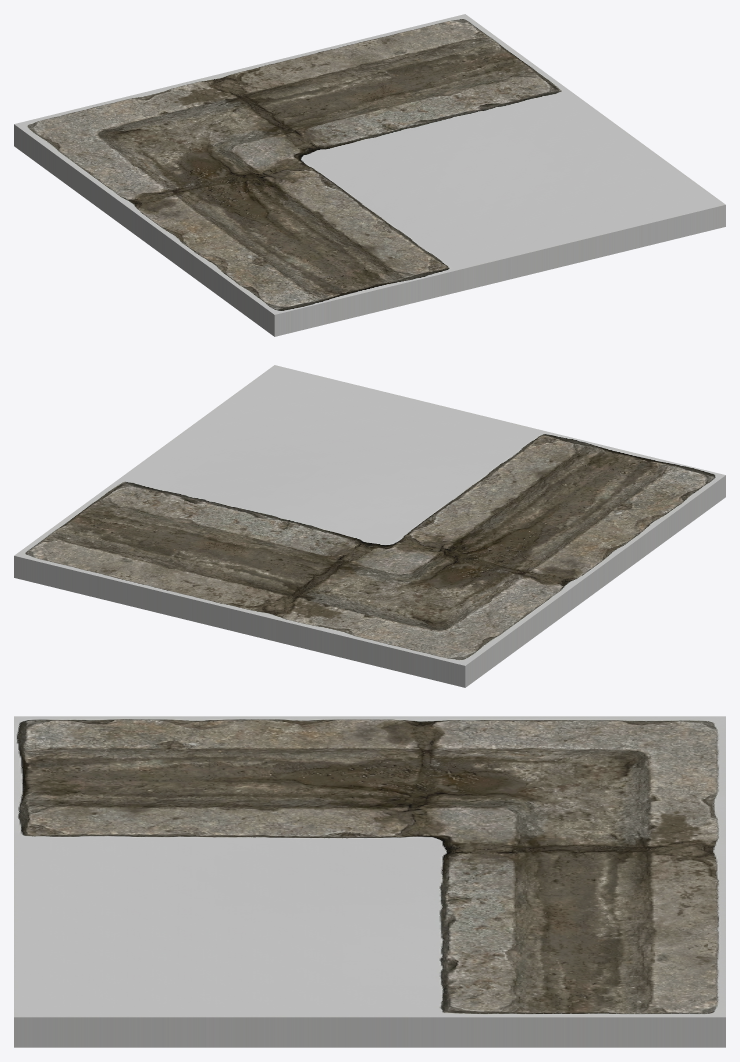
The model's file is colonial-gutter-corner.glb.
The picture shows the model from 3 angles, top to bottom: view 1: azimuth 30°, elevation 25°; view 2: azimuth 150°, elevation 25°; view 3: azimuth 270°, elevation 25°; orthographic projection. The views are drawn at different scales.
Visible parts, largest first — view 1: colonial-gutter-corner.glb; view 2: colonial-gutter-corner.glb; view 3: colonial-gutter-corner.glb.
Part boxes in pixels (x1,y1,x2,y2): colonial-gutter-corner.glb: (14, 14, 725, 336); colonial-gutter-corner.glb: (14, 365, 725, 687); colonial-gutter-corner.glb: (14, 716, 725, 1047).
Size of the model in its own units: 1.5 by 0.0737 by 1.5.
Materials: 1 (1 with a texture image).
